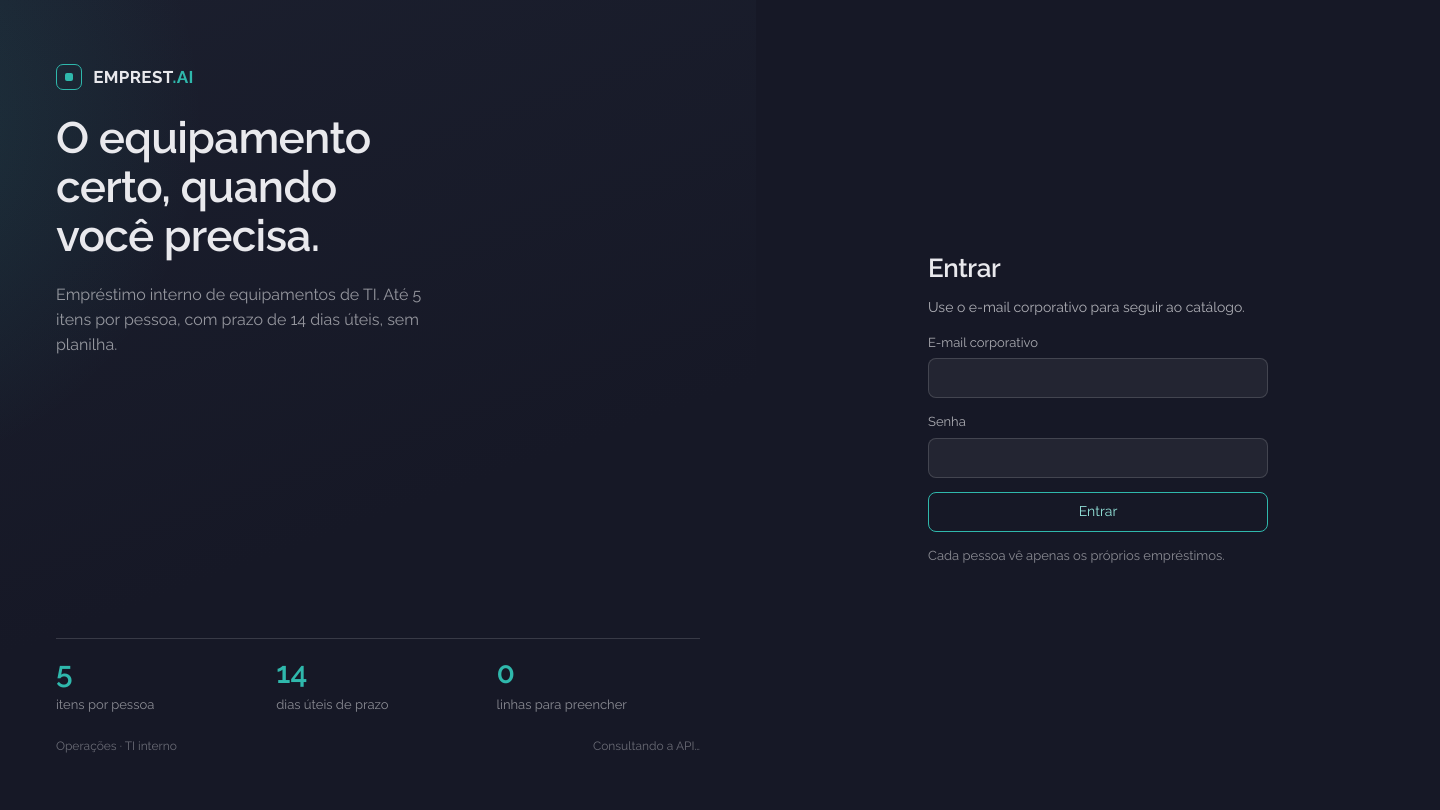
login › CA-02: credencial recusada mostra "E-mail ou senha incorretos" e mantém o login
Type "ryan@exemplo.local" into the field labelled "E-mail corporativo".
click(1098, 378); type("ryan@exemplo.local")  # box [928,358,1268,398]
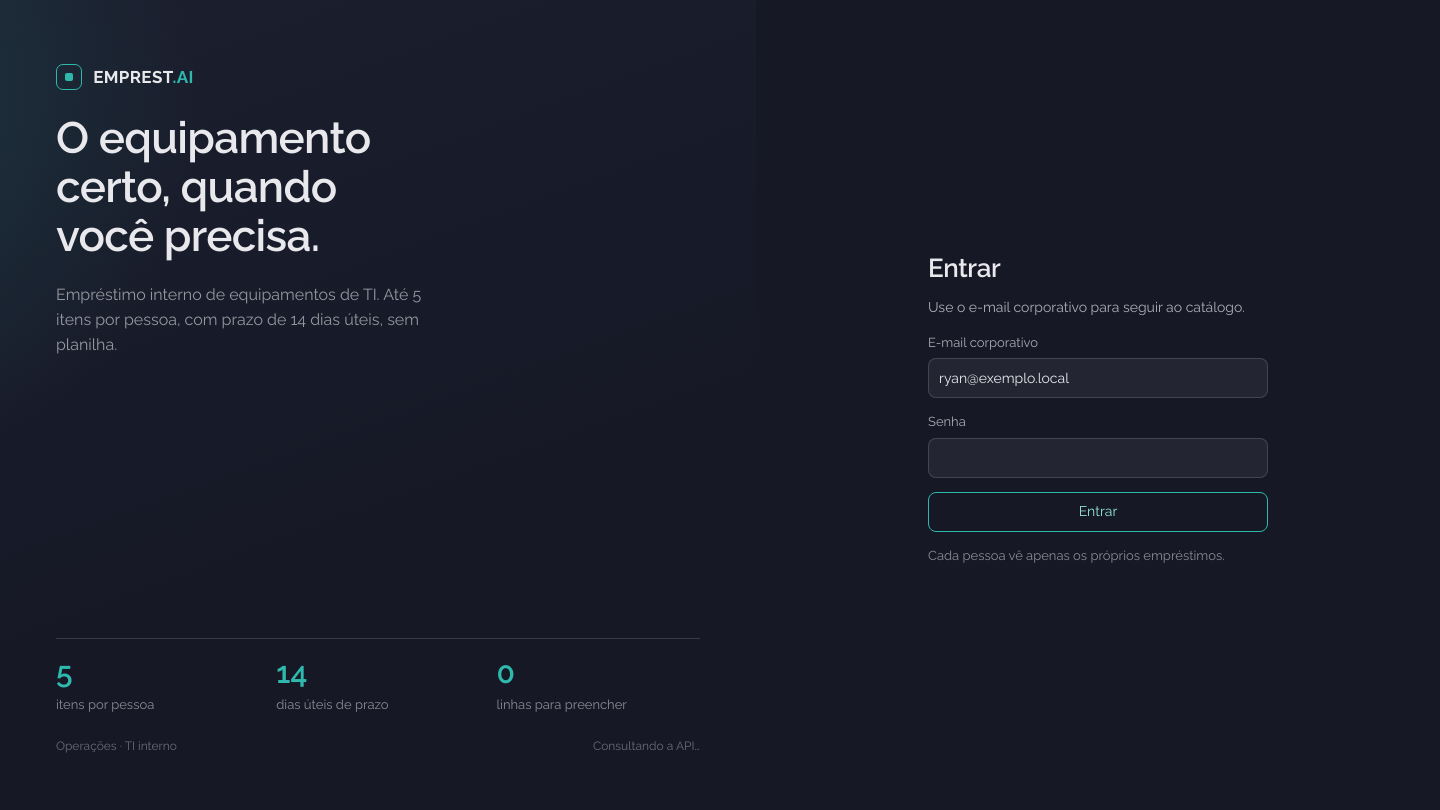
Type "errada" into the password field labelled "Senha".
click(1098, 458); type("errada")  # box [928,438,1268,478]
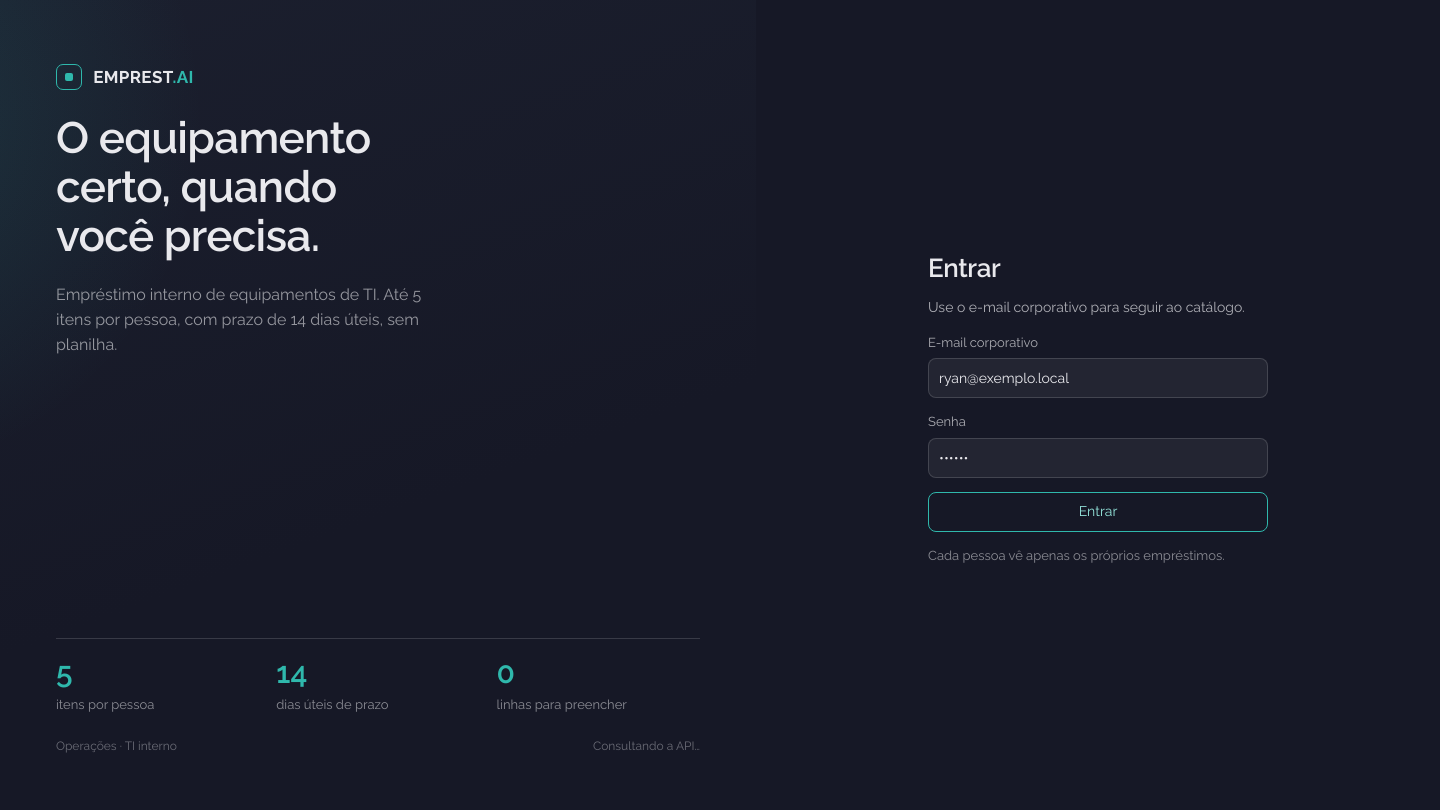
Click the button "Entrar".
click(1098, 512)  # box [928,492,1268,532]
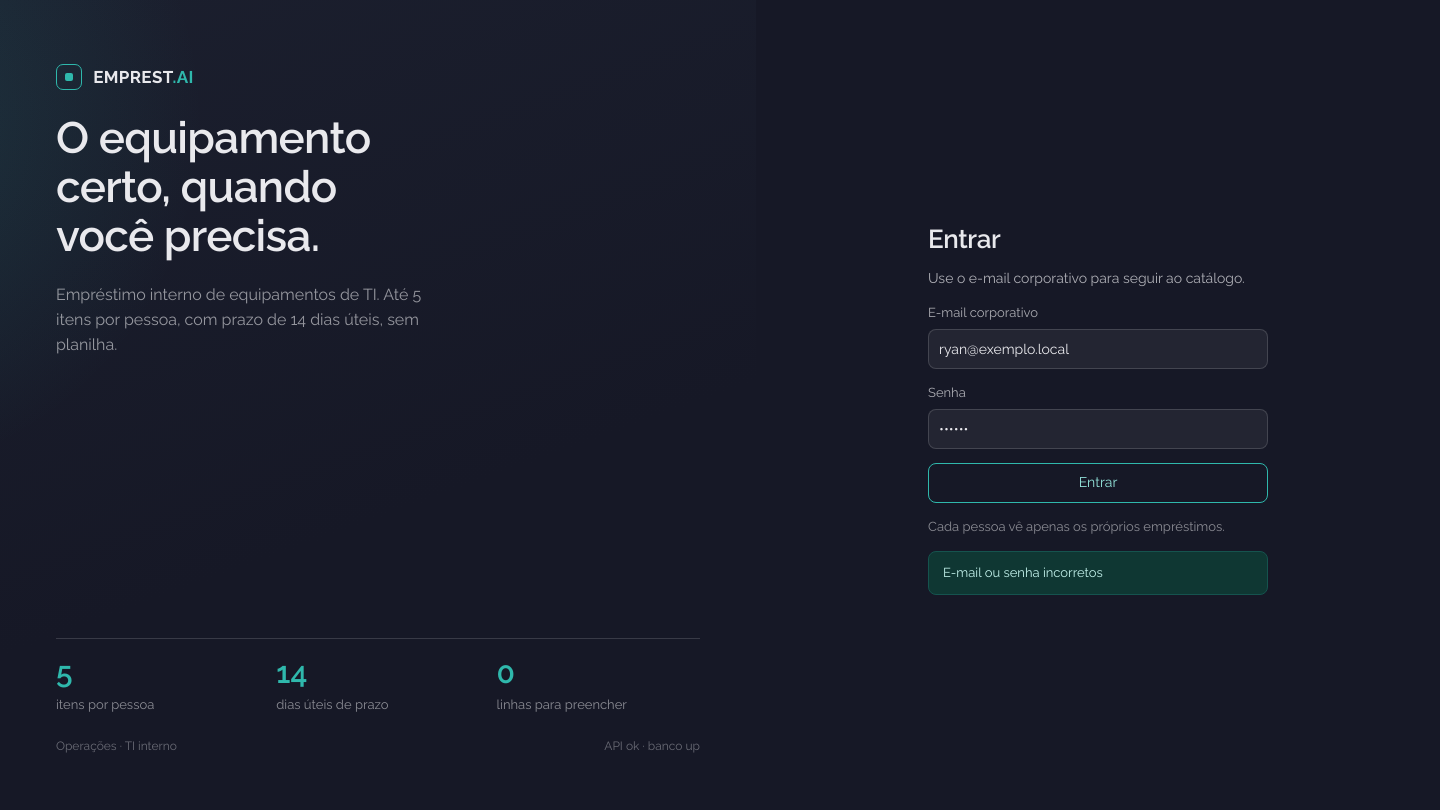
Check: the button "Entrar" is shown, box [928,463,1268,503]
Check: the message "E-mail ou senha incorretos" is shown, box [928,551,1268,595]
